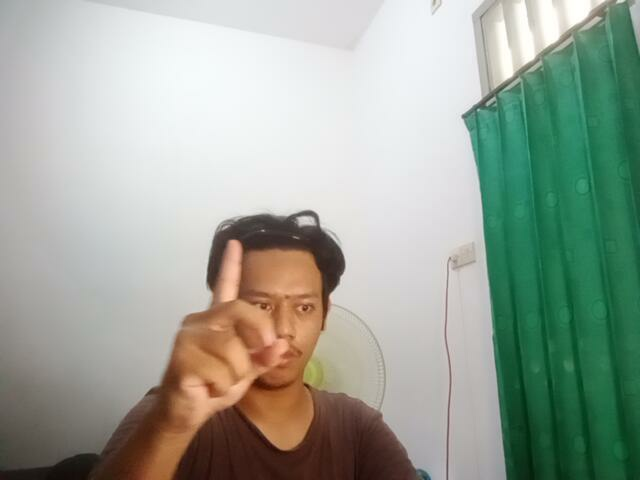D: (154, 232, 297, 425)
